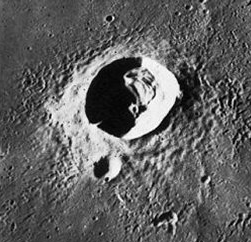crater: (43, 34, 224, 149)
